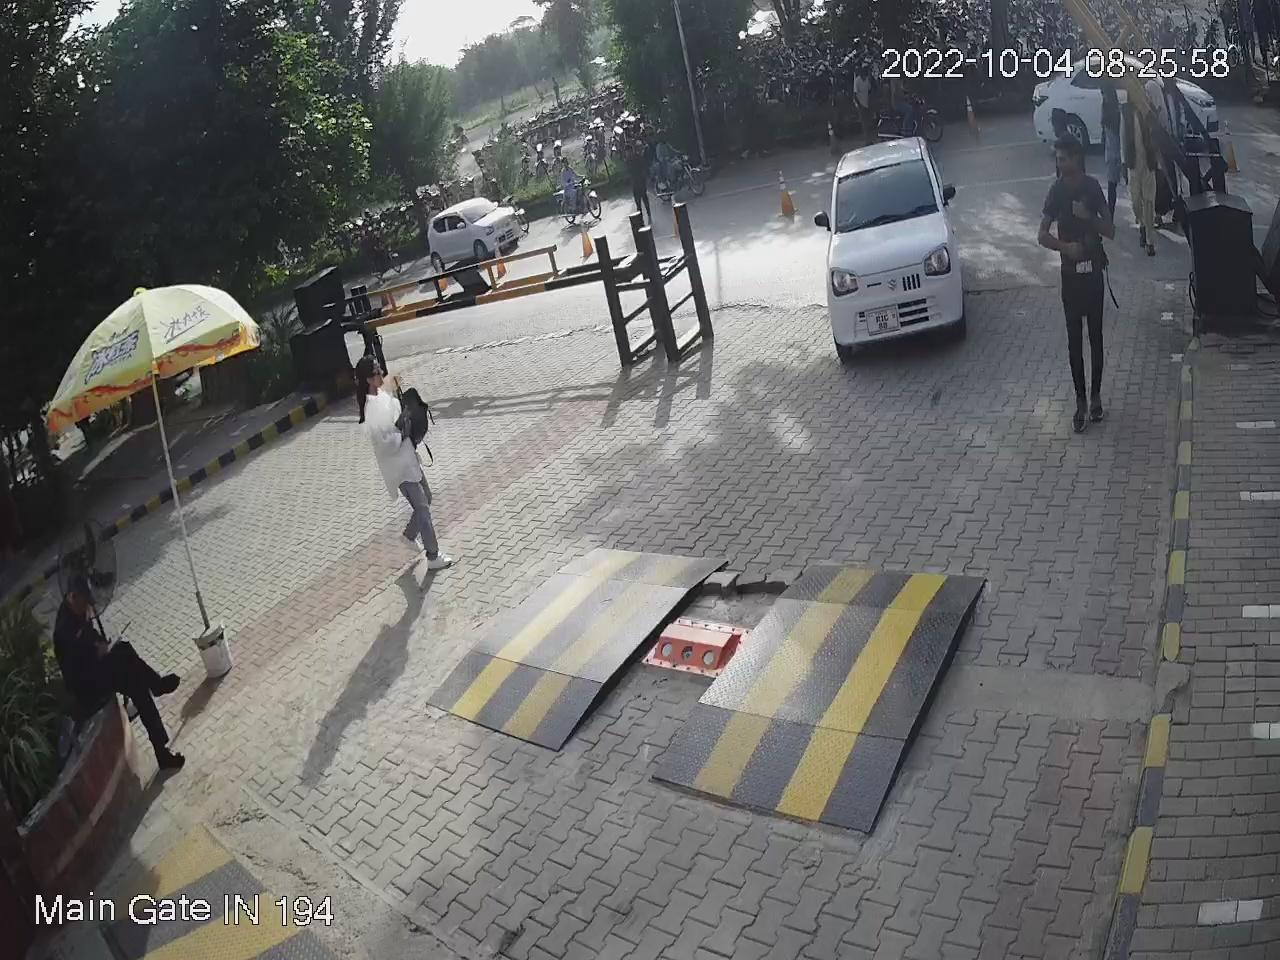windshield: (833, 150, 942, 238)
